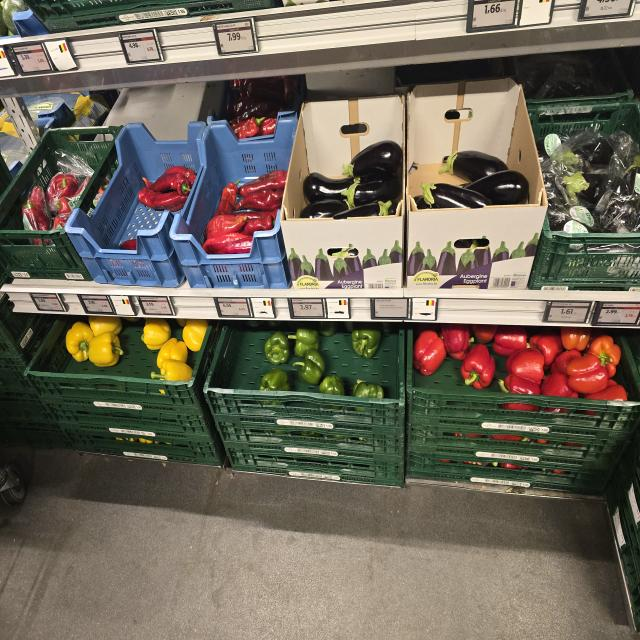Bell Pepper: (567, 353, 608, 394), (461, 344, 495, 389), (413, 330, 446, 375), (506, 348, 544, 385), (588, 335, 620, 377), (88, 332, 123, 367), (293, 348, 325, 385), (66, 322, 94, 362), (441, 323, 470, 360), (352, 323, 381, 359), (540, 373, 578, 399), (157, 338, 188, 369), (141, 319, 171, 350), (264, 331, 290, 365), (289, 328, 319, 357), (182, 319, 208, 352), (151, 361, 192, 381), (89, 315, 122, 337), (259, 368, 290, 391), (353, 380, 384, 399), (319, 374, 344, 395)
Eggplant: (343, 140, 403, 179), (463, 170, 529, 205), (440, 150, 508, 182), (342, 173, 403, 207), (421, 182, 492, 209), (304, 172, 354, 203), (333, 200, 392, 219)
